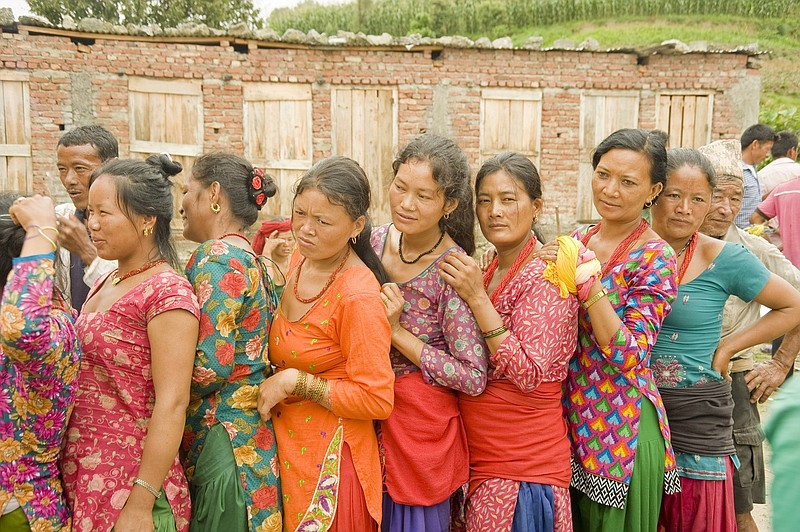human: (644, 135, 800, 532), (349, 128, 491, 532), (253, 150, 398, 532), (553, 115, 684, 532), (447, 143, 585, 532), (59, 149, 191, 532), (173, 146, 282, 532)
